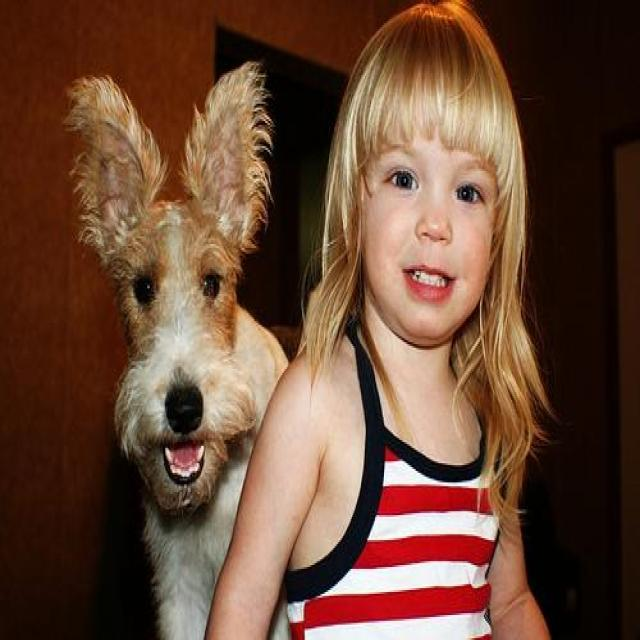adult_dog: (69, 55, 289, 640)
non-dog: (194, 0, 554, 640)
